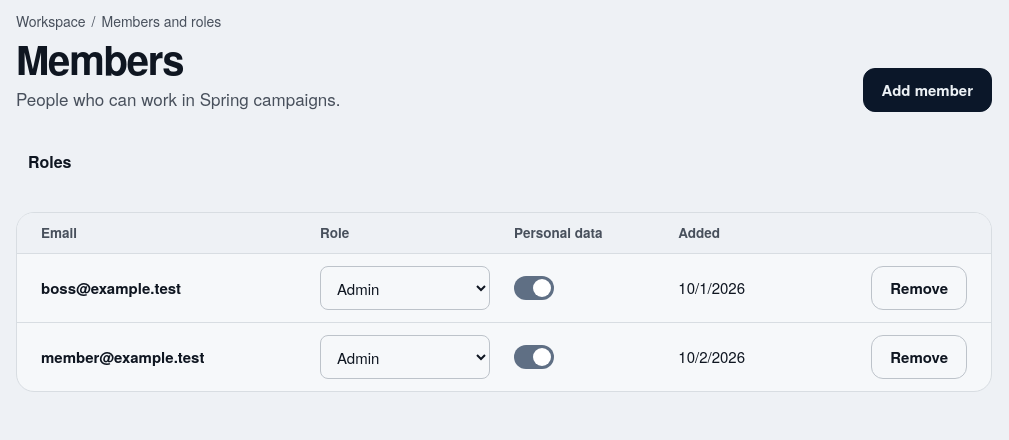
Test case: members › refetches after a last_admin refusal of a role change and shows the reason when only one admin is left
Select "Editor" in the dropdown named "Role for boss@example.test" at (405, 288), box [320,266,490,310]
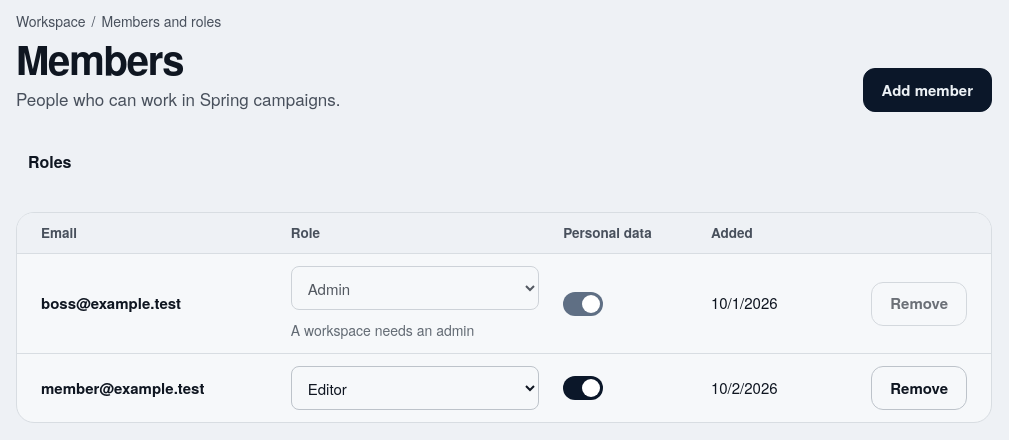
Expected: the text "A workspace needs an admin" is shown, [291,320,474,340]
Expected: the dropdown named "Role for boss@example.test" is disabled, [291,266,539,310]
Expected: the button with aria-label "Remove boss@example.test" is disabled, [871,282,967,326]
